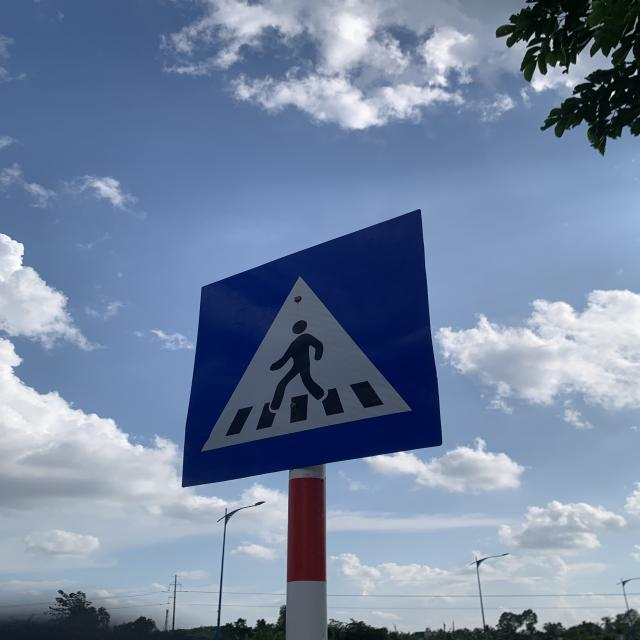Giao_Nhau_Duong_Uu_Tien: (183, 207, 441, 488)
